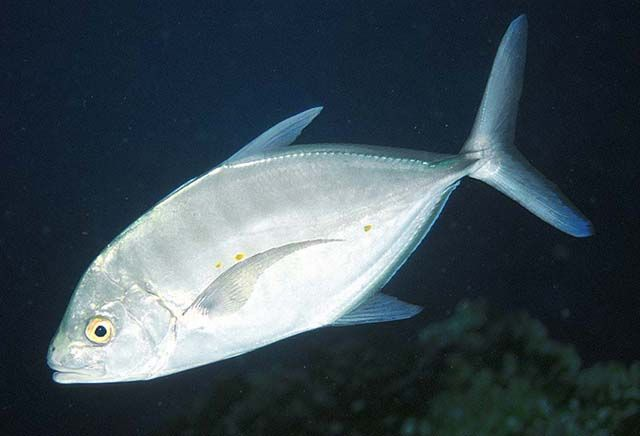fish: (46, 15, 593, 386)
